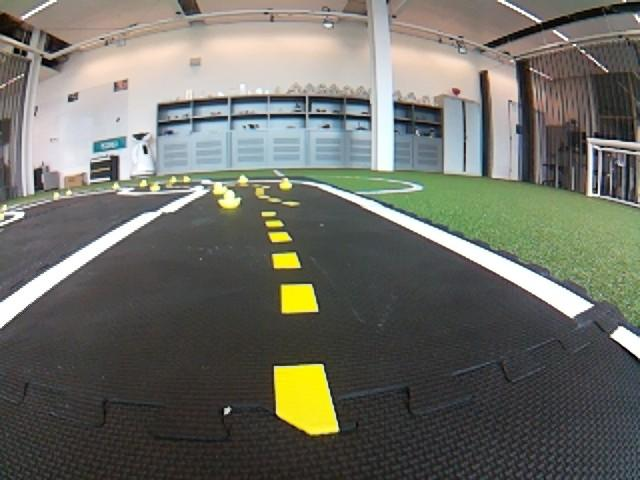Duckies: (218, 189, 242, 210), (213, 183, 229, 195), (280, 178, 292, 190), (237, 175, 248, 184), (151, 183, 161, 190), (183, 176, 191, 183), (138, 181, 147, 187), (113, 182, 120, 189), (169, 176, 176, 183), (2, 204, 8, 211), (53, 194, 60, 200)
